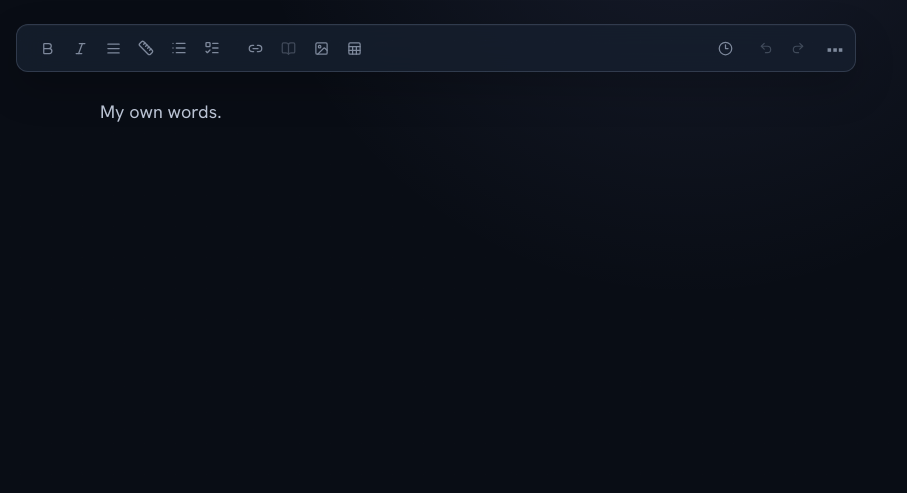
Test case: RichNoteEditor AI writing › keeps AI discoverable without a key and leaves the note untouched
The image size is (907, 493).
Click the button named "More formatting": click(835, 48) [820,33,850,63]
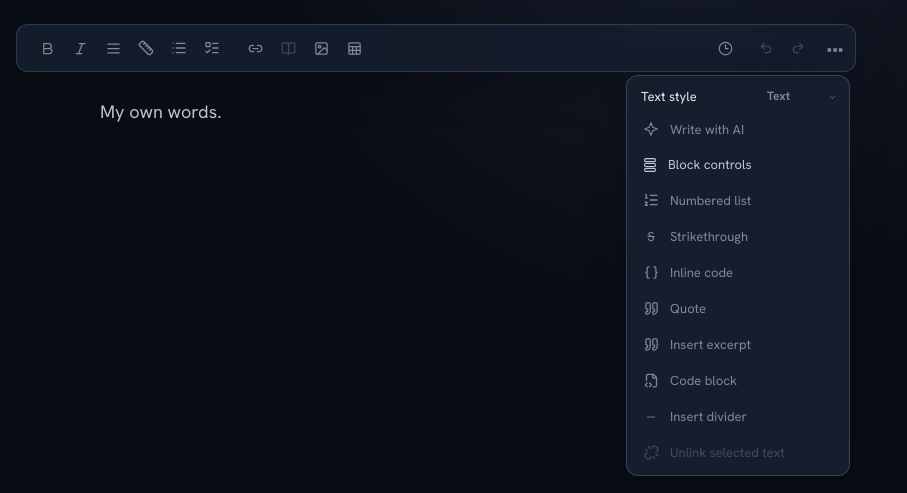
Expected: the menu item "Write with AI" is enabled, [632,111,844,147]
